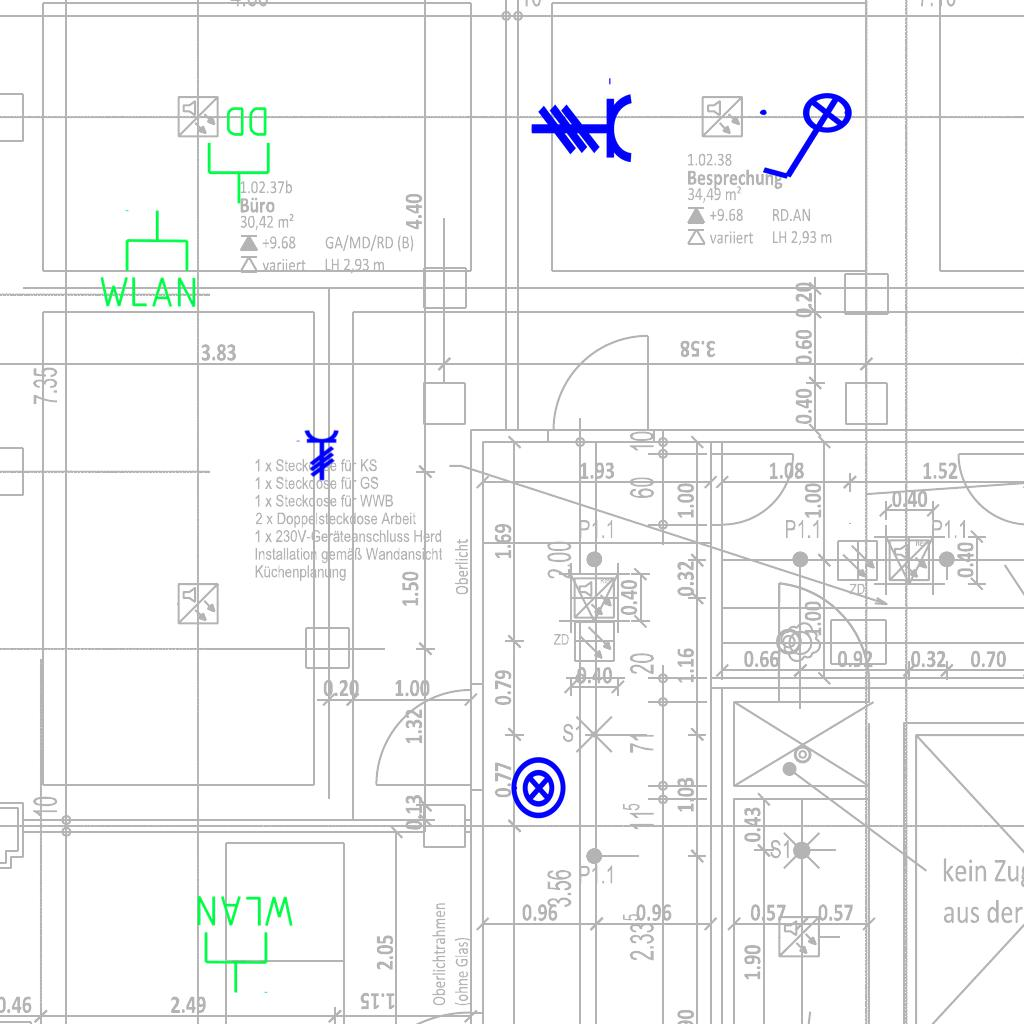Ausschalter_beleuchtet: (754, 91, 866, 187)
CEE_Drehstrom_Steckdose_16_32_A: (530, 75, 634, 165), (295, 429, 340, 481)
Datenanschluss_zweifach: (205, 103, 274, 206)
Taster_beleuchtet: (506, 755, 572, 821)
WLAN: (95, 207, 200, 311), (193, 892, 298, 996)
